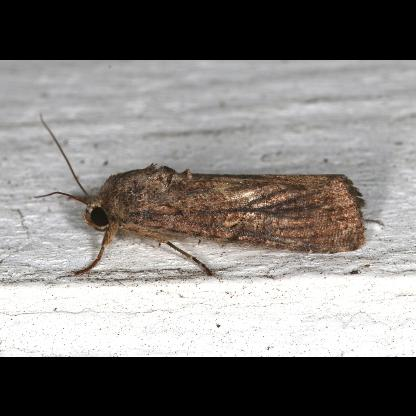Fall Armyworm Moth: (31, 109, 370, 279)
